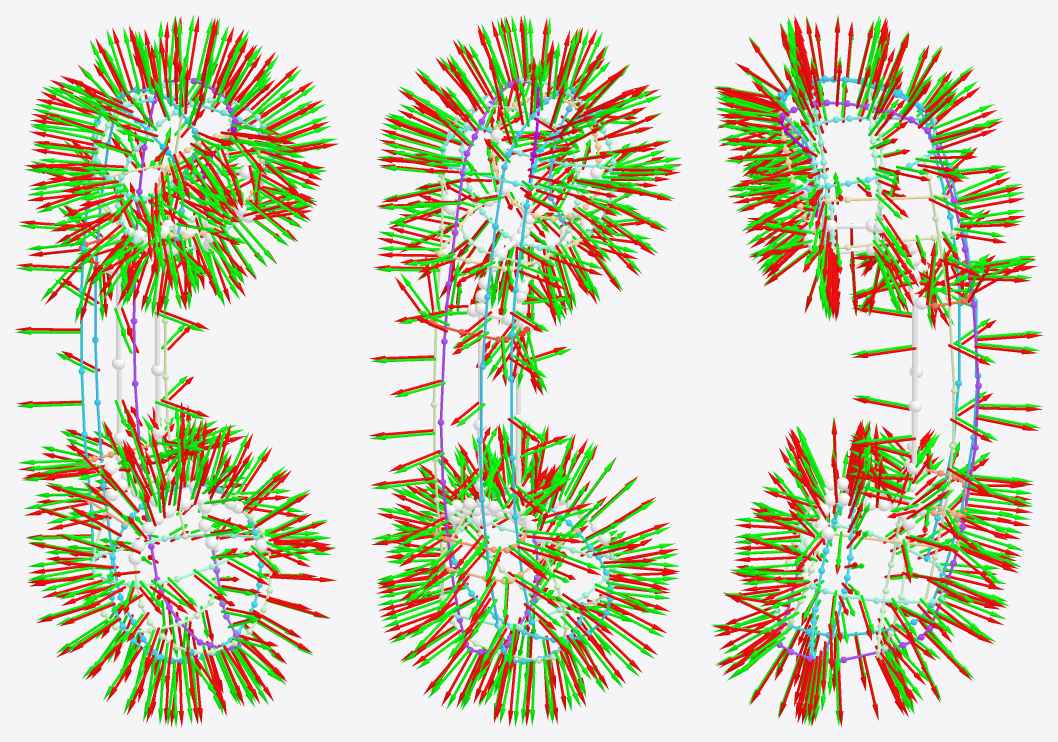
Rendered from flowrep_phone.gltf.
3 renders of one model, left to right at view 1: azimuth 30°, elevation 25°; view 2: azimuth 150°, elevation 25°; view 3: azimuth 270°, elevation 25°, orthographic.
Size of the model in its own units: 0.4619 by 1.11 by 0.4914.
